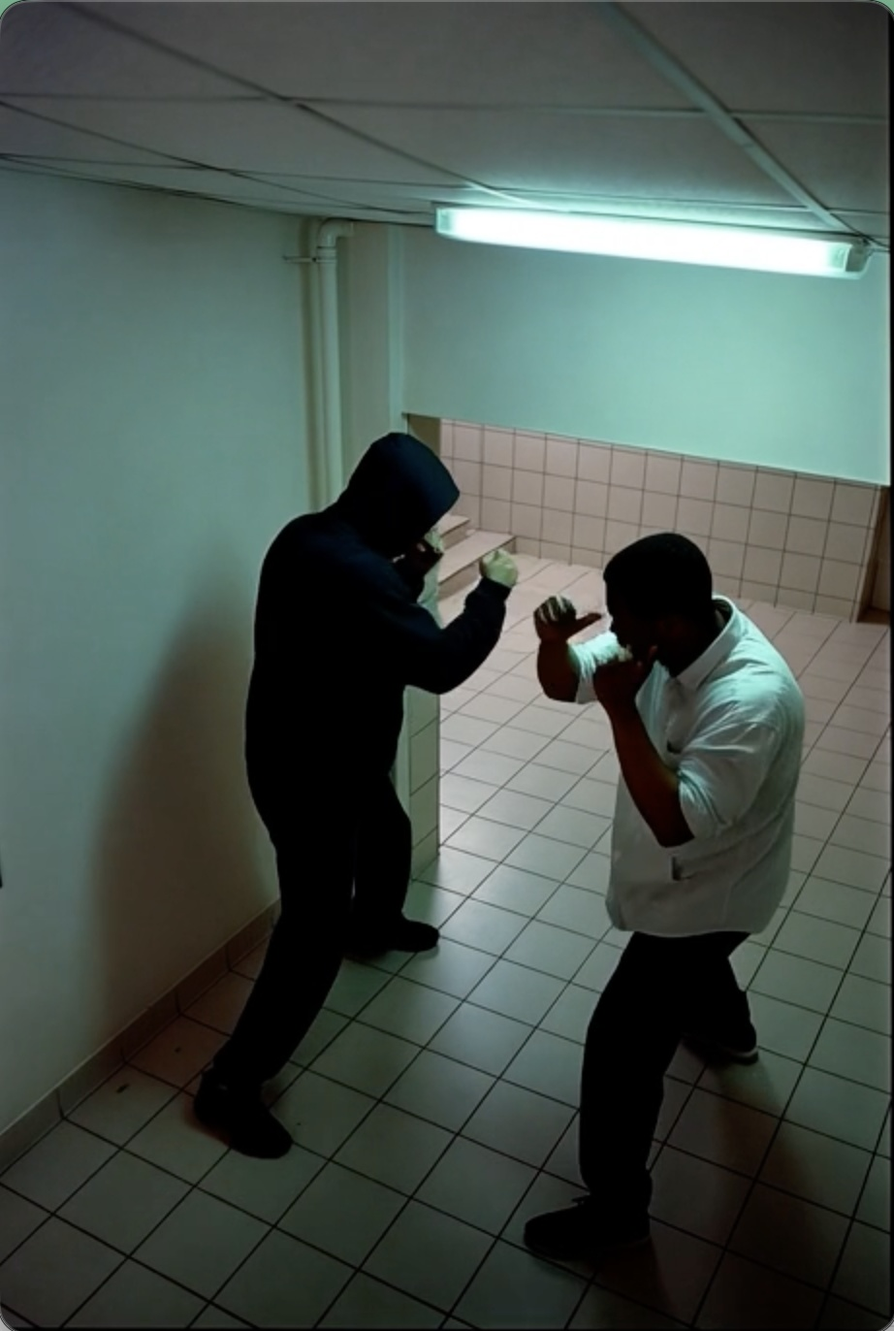Assault: (522, 532, 807, 1264)
Fighting: (191, 431, 519, 1162)
